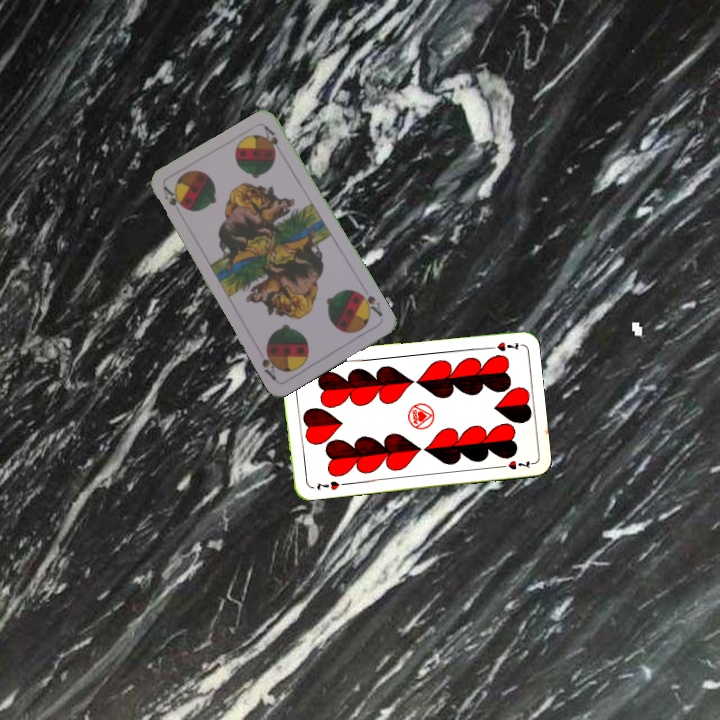H7: (482, 338, 521, 354), (313, 477, 342, 493)
SA: (159, 182, 188, 219), (354, 288, 385, 319)
